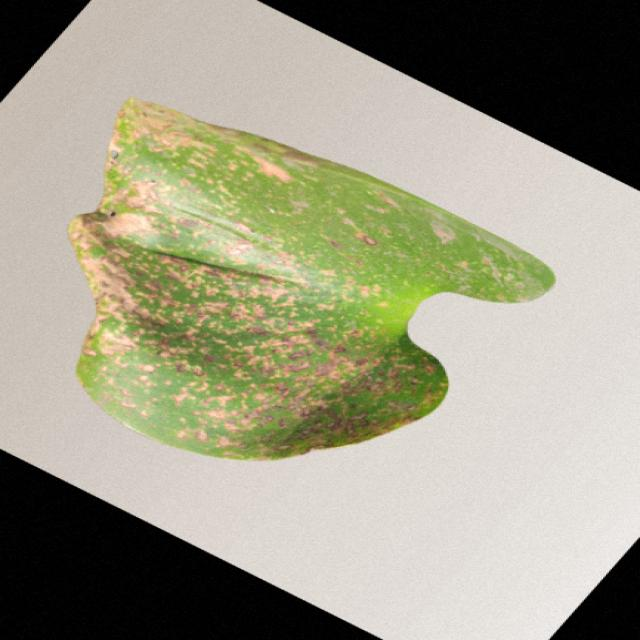daun berpenyakit bercak: (70, 99, 553, 459)
